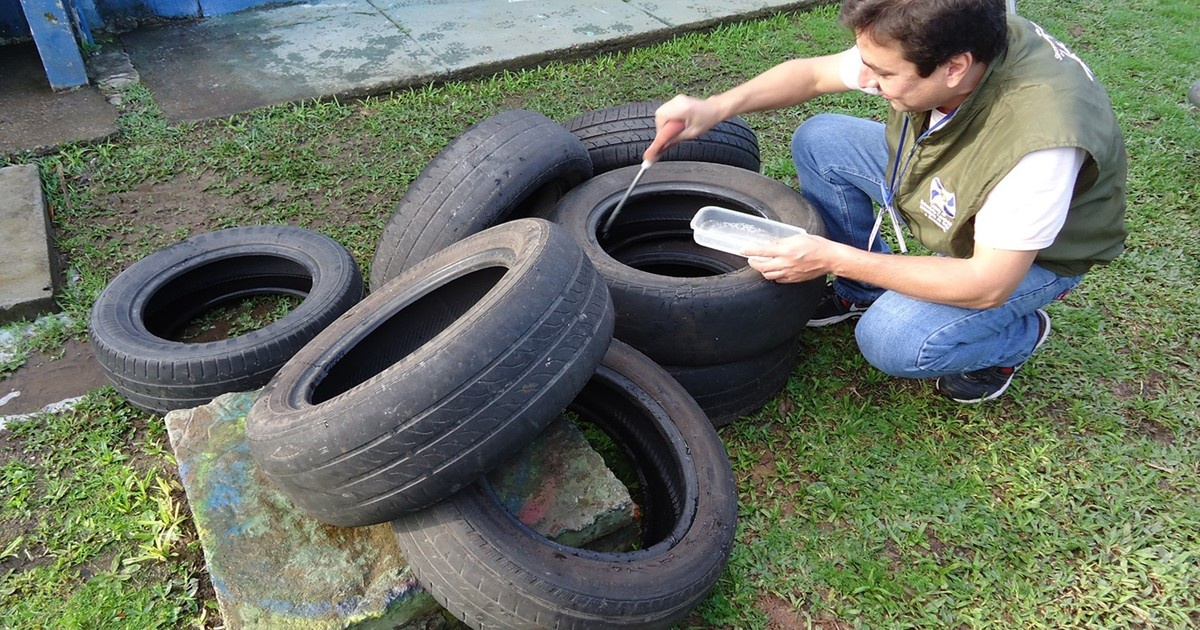tire: (384, 318, 738, 630), (257, 217, 621, 516), (535, 229, 826, 429), (538, 154, 834, 345), (85, 227, 396, 406), (384, 109, 600, 364), (549, 102, 770, 199)
